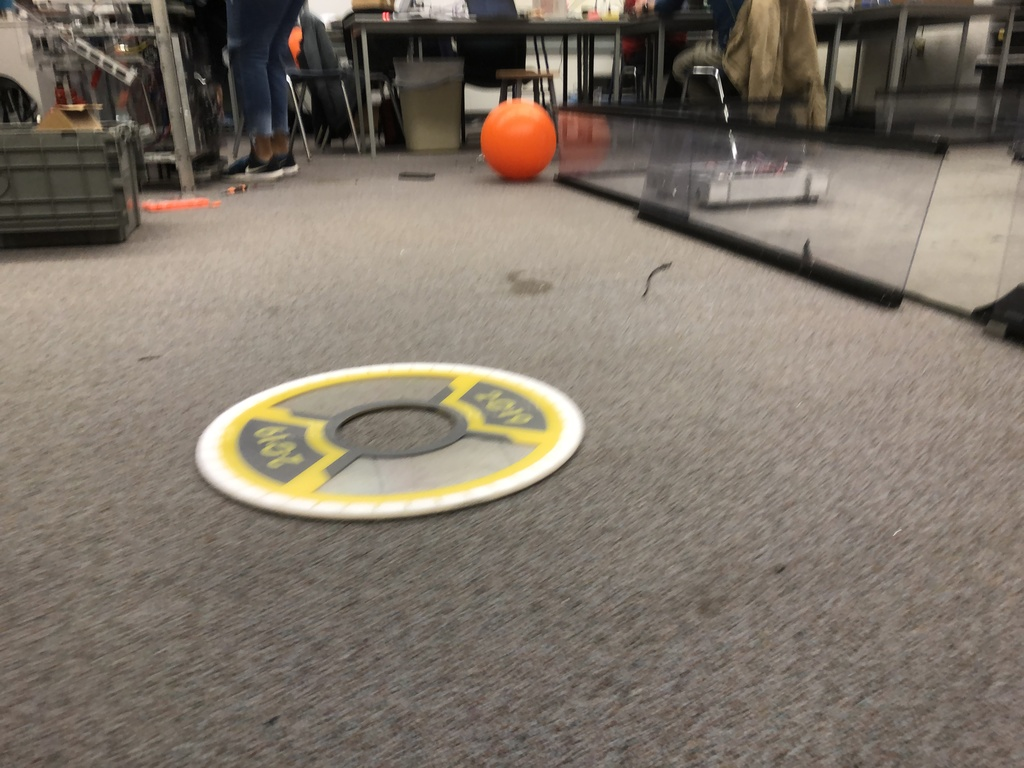hatch_panel: (183, 346, 593, 532)
